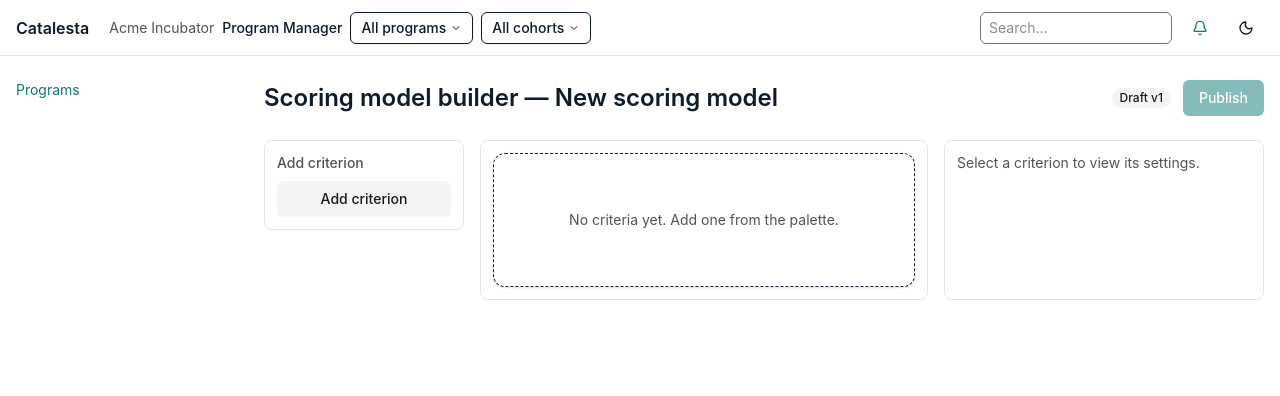
Test case: editing criterion label in inspector updates canvas row
Check: the element showing "No criteria yet. Add one from the palette." is shown, box [480, 140, 928, 300]
Click the button "Add criterion": point(364, 199) [277, 181, 451, 217]
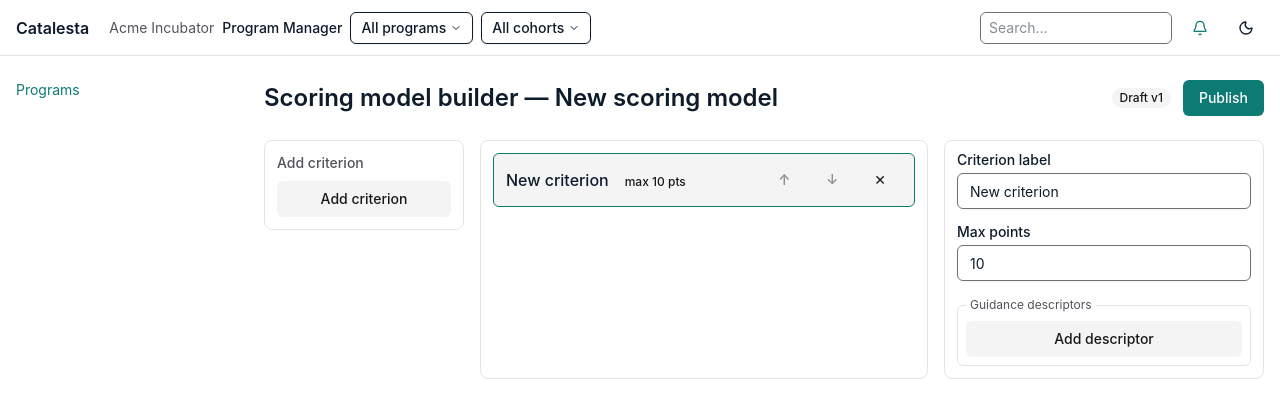
Replace the text in the field labelled "Criterion label" with "My updated criterion": point(1104, 191) [957, 173, 1251, 209]
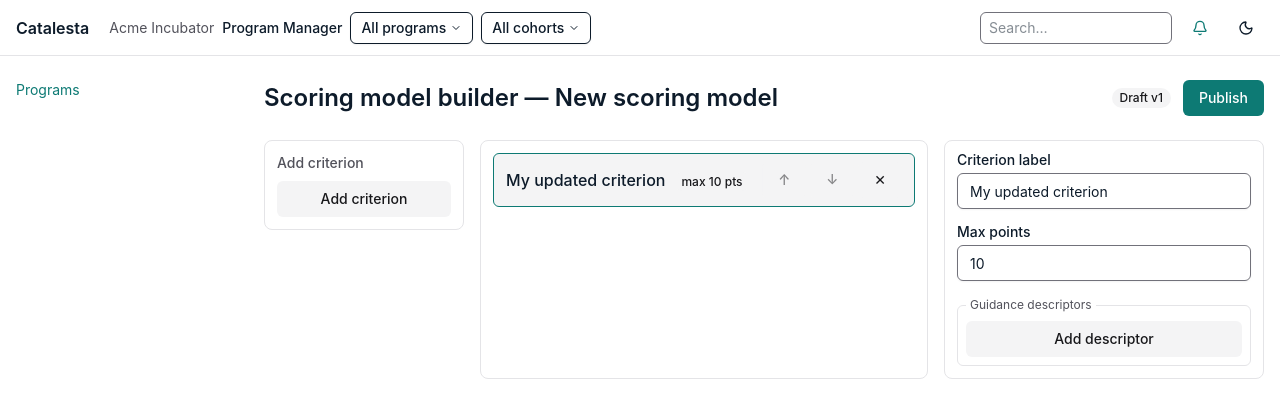
Check: the list item shows "My updated criterion", box [506, 168, 751, 192]
